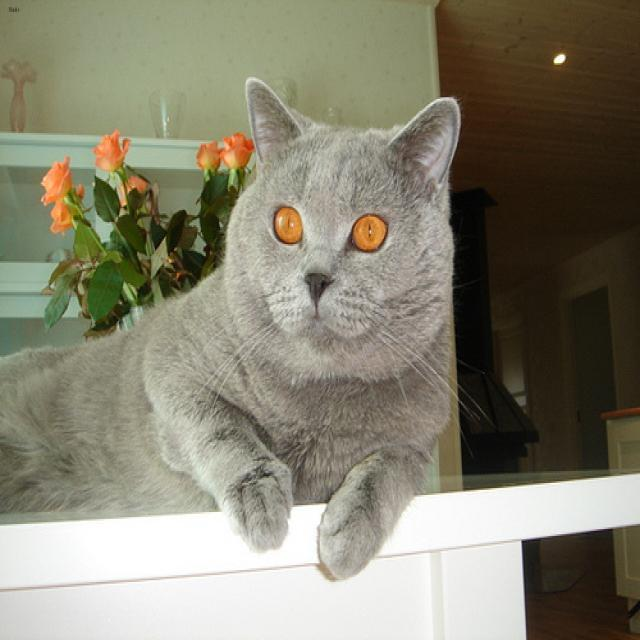British_Shorthair: (211, 73, 457, 365)
